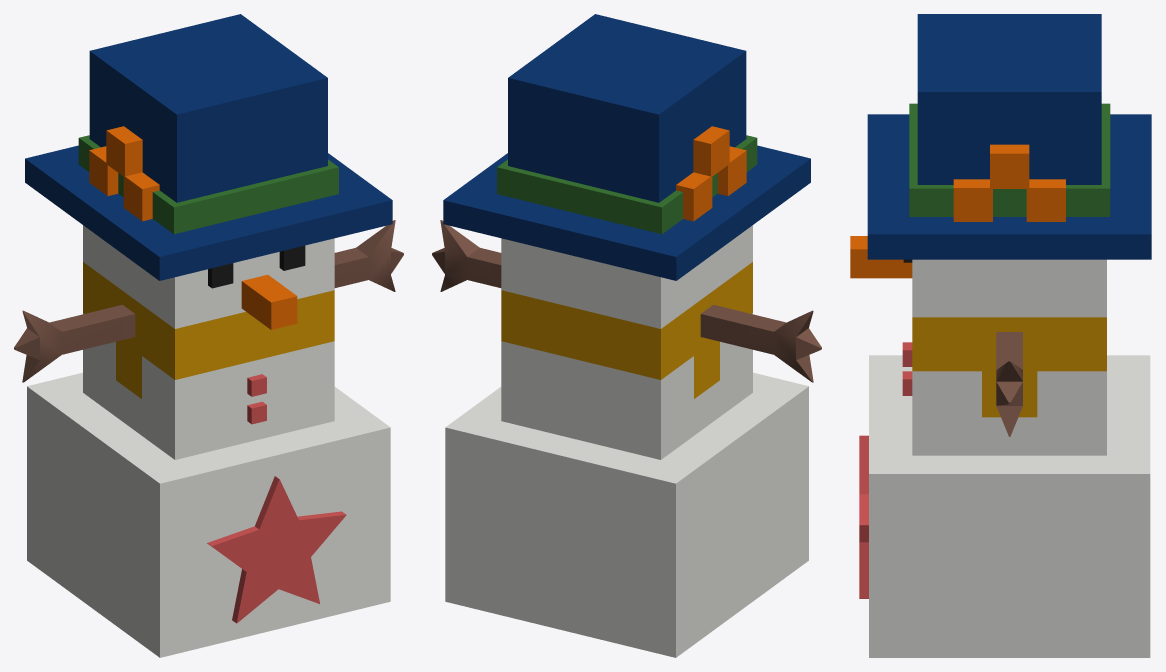
File: 100 Snow_Ball.fbx
3 renders of one model, left to right at view 1: azimuth 30°, elevation 25°; view 2: azimuth 150°, elevation 25°; view 3: azimuth 270°, elevation 25°, orthographic. The views are drawn at different scales.
Parts seen in each view (by area): view 1: Lowpoly_Christmas_Pack_069:pCube15; view 2: Lowpoly_Christmas_Pack_069:pCube15; view 3: Lowpoly_Christmas_Pack_069:pCube15.
Boxes of the visible parts, x1,y1,x2,y2 form: Lowpoly_Christmas_Pack_069:pCube15: (14,14,403,657); Lowpoly_Christmas_Pack_069:pCube15: (432,14,821,657); Lowpoly_Christmas_Pack_069:pCube15: (850,14,1151,657).
Size of the model in its own units: 1.68 by 2.14 by 1.07.
